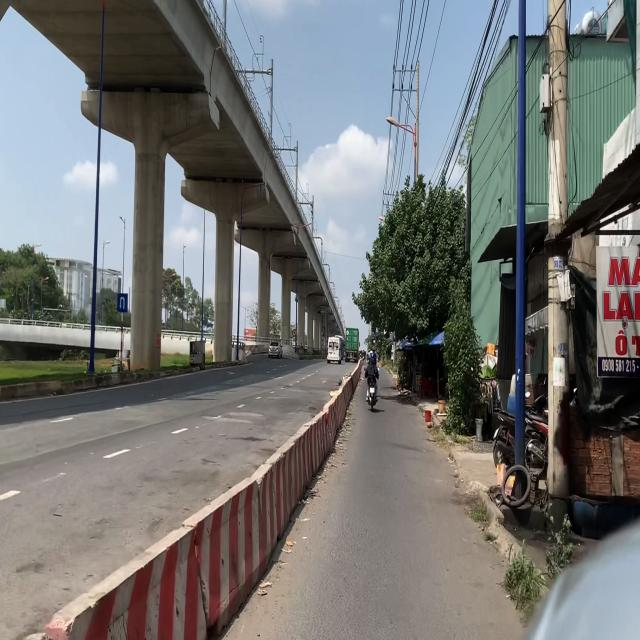Chi dan: (118, 292, 128, 312)
